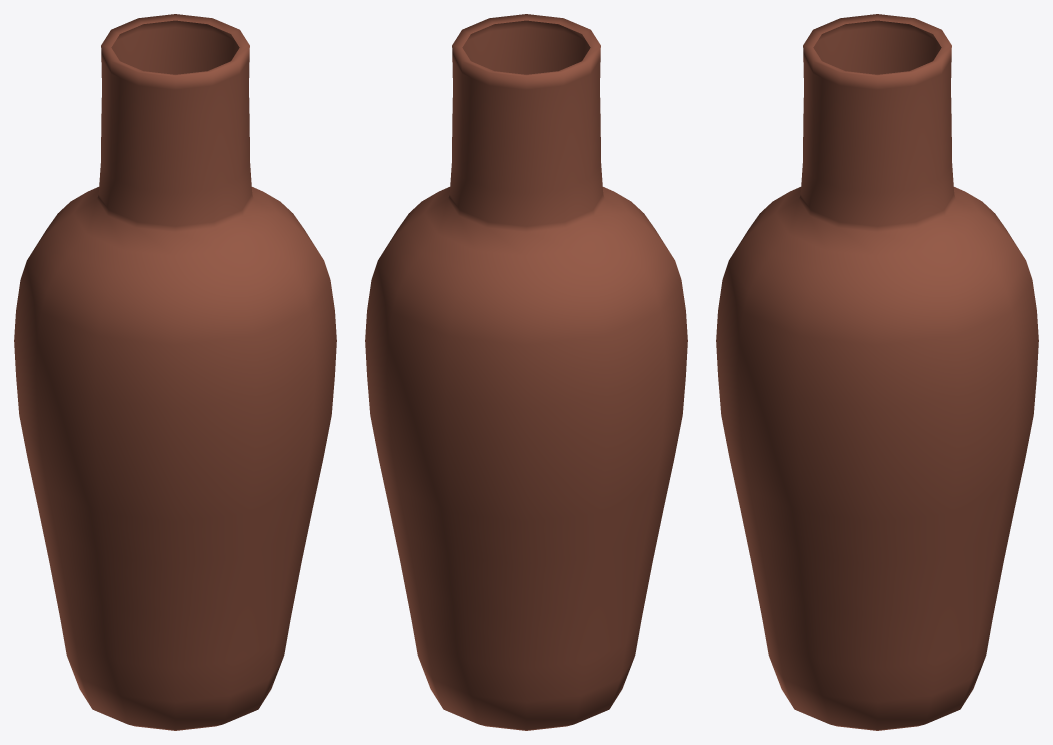
The model's file is Vaso.fbx.
The picture shows the model from 3 angles, left to right: view 1: azimuth 30°, elevation 25°; view 2: azimuth 150°, elevation 25°; view 3: azimuth 270°, elevation 25°; orthographic projection.
Parts seen in each view (by area): view 1: vaso; view 2: vaso; view 3: vaso.
Part boxes in pixels (x1,y1,x2,y2): vaso: (14,14,336,730); vaso: (365,14,687,730); vaso: (716,14,1038,730).
Size of the model in its own units: 118 by 262 by 118.
2 materials, 2 textured.
